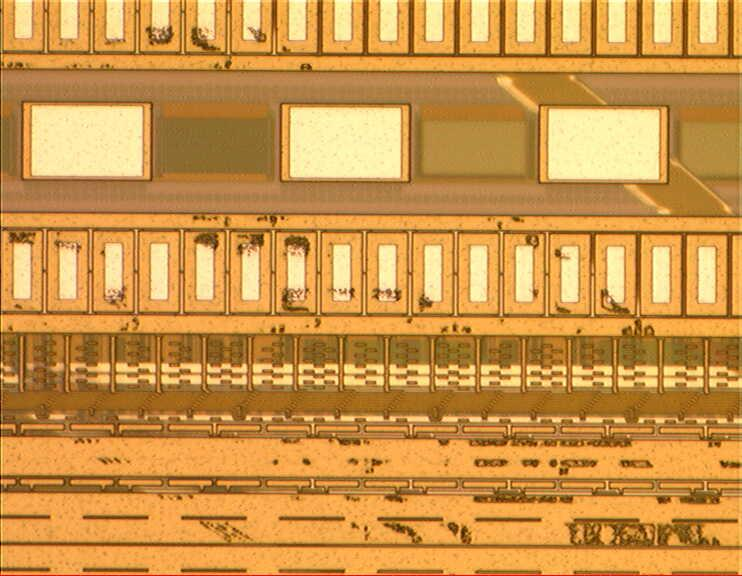PO CONTAMINATION: (2, 20, 742, 550)
